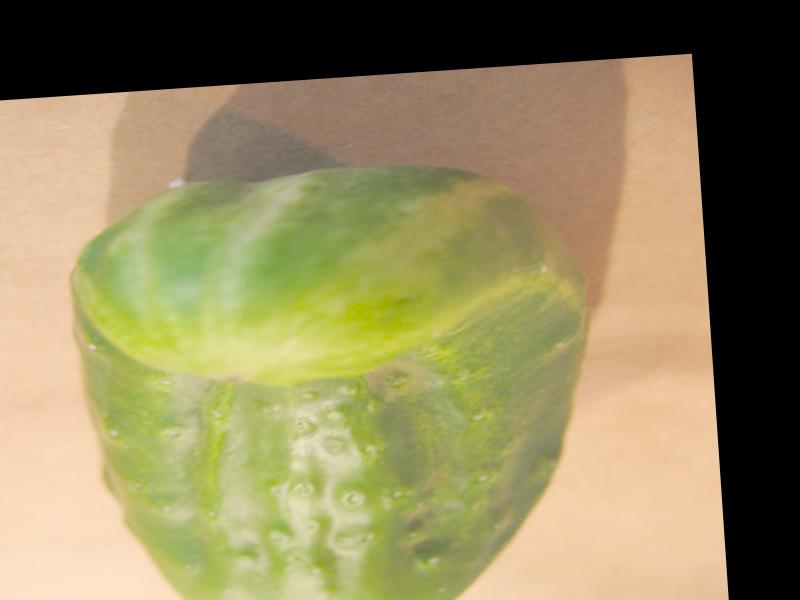Cucumber: (58, 152, 603, 600)
